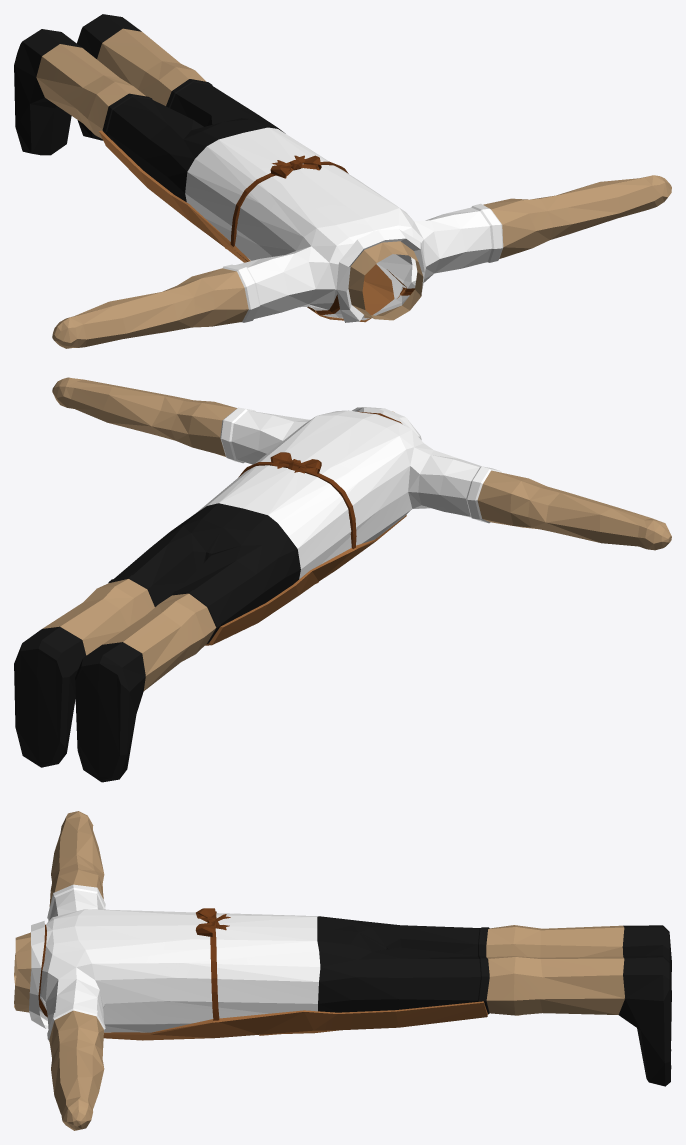
Rendered from Grillmaster.glb.
The picture shows the model from 3 angles, top to bottom: view 1: azimuth 30°, elevation 25°; view 2: azimuth 150°, elevation 25°; view 3: azimuth 270°, elevation 25°; orthographic projection.
Visible parts, largest first — view 1: Grillmaster; view 2: Grillmaster; view 3: Grillmaster.
Part boxes in pixels (box(x1,y1,x2,y2)): Grillmaster: box(14, 14, 671, 348); Grillmaster: box(14, 377, 671, 782); Grillmaster: box(14, 811, 671, 1130).
Size of the model in its own units: 1.21 by 0.2848 by 1.11.
Materials: 1 (1 with a texture image).
